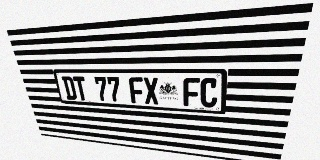7: (93, 77, 110, 102), (106, 77, 122, 103)
C: (200, 78, 218, 108)
D: (61, 76, 78, 100)
F: (183, 78, 200, 107), (128, 77, 145, 104)
T: (72, 76, 89, 101)
X: (143, 77, 159, 105)
